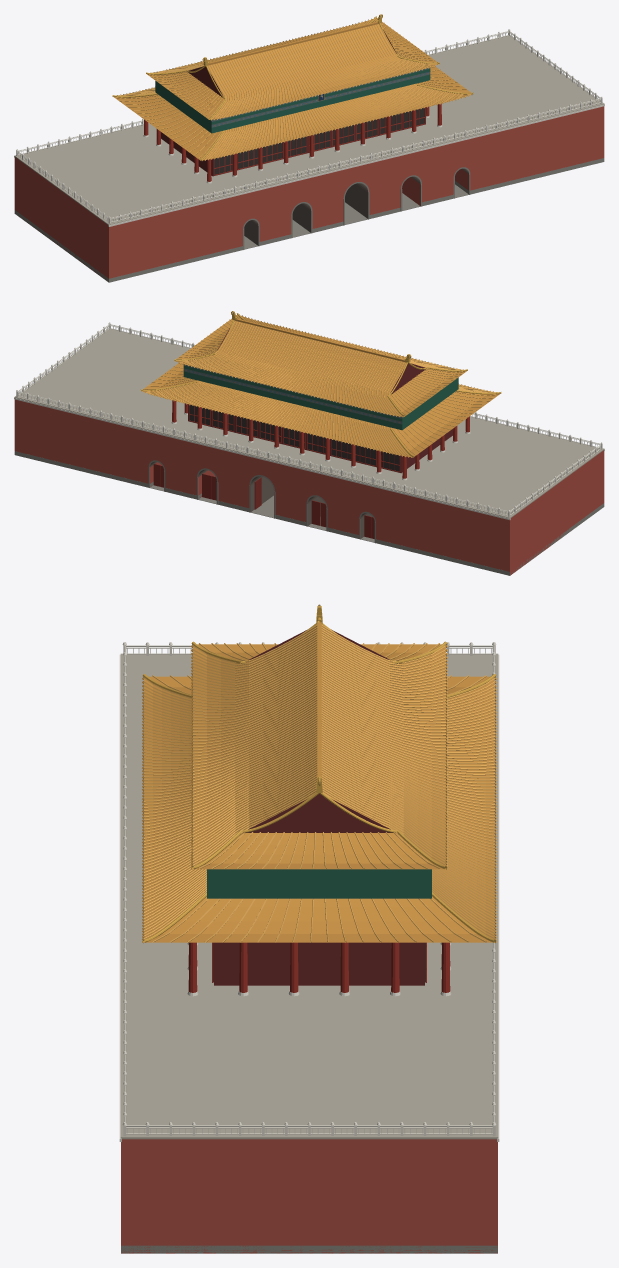
The model's file is preview.glb.
3 renders of one model, top to bottom at view 1: azimuth 30°, elevation 25°; view 2: azimuth 150°, elevation 25°; view 3: azimuth 270°, elevation 25°, orthographic. The views are drawn at different scales.
Parts seen in each view (by area): view 1: Duanmen wall, Duanmen deck, Duanmen roof, Duanmen tile, Duanmen marble, Duanmen stone, Duanmen jade, Duanmen window, Duanmen red, Duanmen vault, Duanmen redDark, Duanmen frieze (+1 smaller); view 2: Duanmen wall, Duanmen deck, Duanmen roof, Duanmen tile, Duanmen marble, Duanmen stone, Duanmen jade, Duanmen window, Duanmen red, Duanmen door, Duanmen redDark, Duanmen frieze (+2 smaller); view 3: Duanmen deck, Duanmen roof, Duanmen tile, Duanmen wall, Duanmen redDark, Duanmen marble, Duanmen jade, Duanmen stone, Duanmen red, Duanmen gold.
Part boxes in pixels (x1,y1,x2,y2): Duanmen wall: (14, 106, 604, 279); Duanmen deck: (14, 35, 604, 225); Duanmen roof: (113, 18, 470, 160); Duanmen tile: (114, 17, 472, 160); Duanmen marble: (14, 29, 604, 226); Duanmen stone: (14, 158, 604, 282); Duanmen jade: (155, 69, 430, 133); Duanmen window: (214, 108, 424, 174); Duanmen red: (144, 103, 441, 181); Duanmen vault: (244, 168, 468, 245); Duanmen redDark: (161, 30, 425, 176); Duanmen frieze: (211, 67, 430, 127); Duanmen wall: (14, 399, 604, 575); Duanmen deck: (14, 328, 604, 518); Duanmen roof: (143, 315, 500, 457); Duanmen tile: (141, 314, 499, 457); Duanmen marble: (14, 322, 604, 520); Duanmen stone: (14, 451, 604, 575); Duanmen jade: (183, 365, 458, 430); Duanmen window: (189, 404, 399, 471); Duanmen red: (172, 400, 469, 478); Duanmen door: (153, 464, 374, 538); Duanmen redDark: (188, 327, 453, 473); Duanmen frieze: (183, 364, 402, 424); Duanmen deck: (120, 653, 498, 1139); Duanmen roof: (144, 621, 494, 942); Duanmen tile: (142, 625, 496, 943); Duanmen wall: (121, 1139, 497, 1253); Duanmen redDark: (214, 629, 424, 985); Duanmen marble: (119, 642, 499, 1141); Duanmen jade: (207, 869, 431, 898); Duanmen stone: (121, 1245, 497, 1253); Duanmen red: (188, 942, 450, 992); Duanmen gold: (142, 604, 496, 942).
Bounding box in the file's own units: 1.18 × 0.3487 × 0.3903.
Materials: 16 (1 with a texture image).
